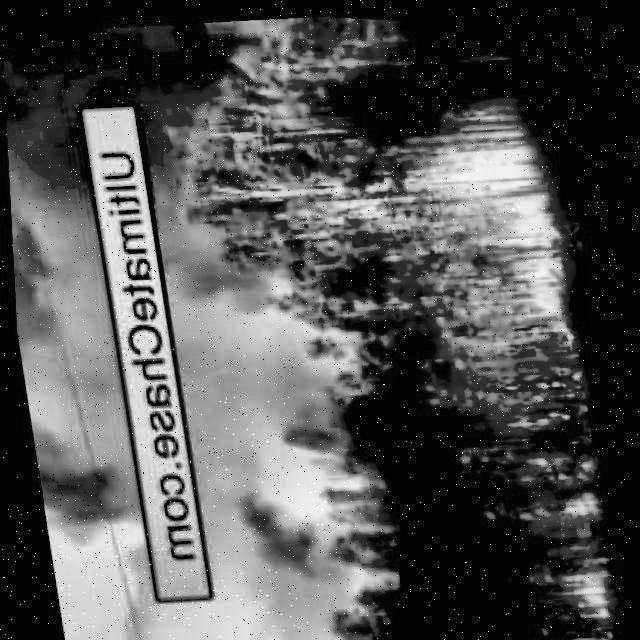Fire: (387, 114, 569, 342), (554, 556, 611, 619), (555, 478, 592, 519)
Smoke: (127, 5, 403, 640), (1, 26, 133, 552)
